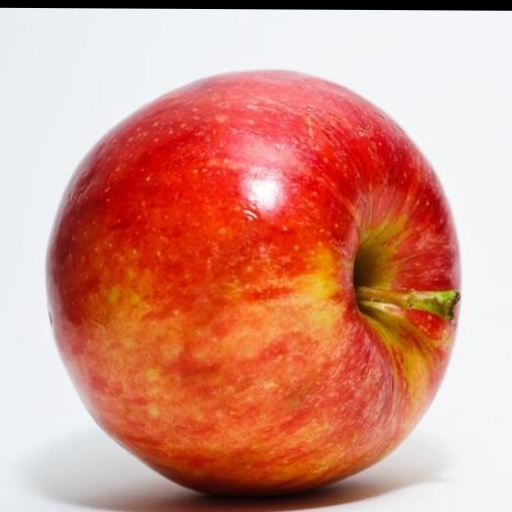fruit: (46, 71, 458, 494)
